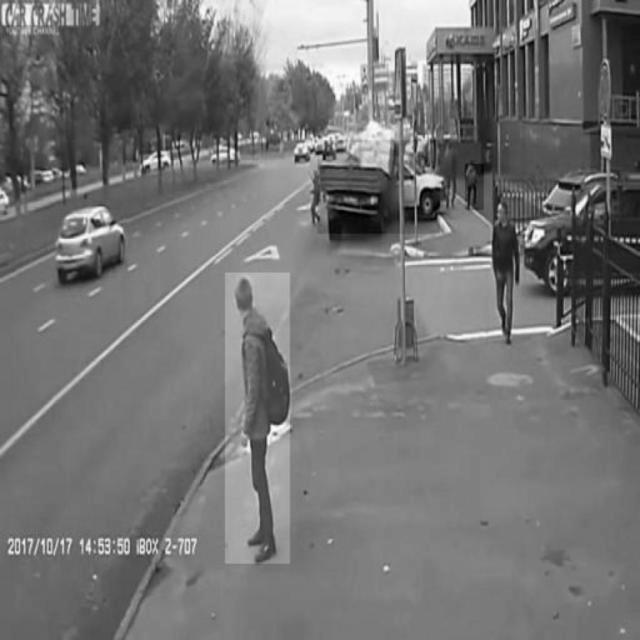accident: (318, 141, 440, 234)
person: (225, 273, 291, 564), (490, 201, 520, 345), (465, 164, 483, 210)
vehicle: (525, 167, 639, 295), (55, 207, 126, 277)
